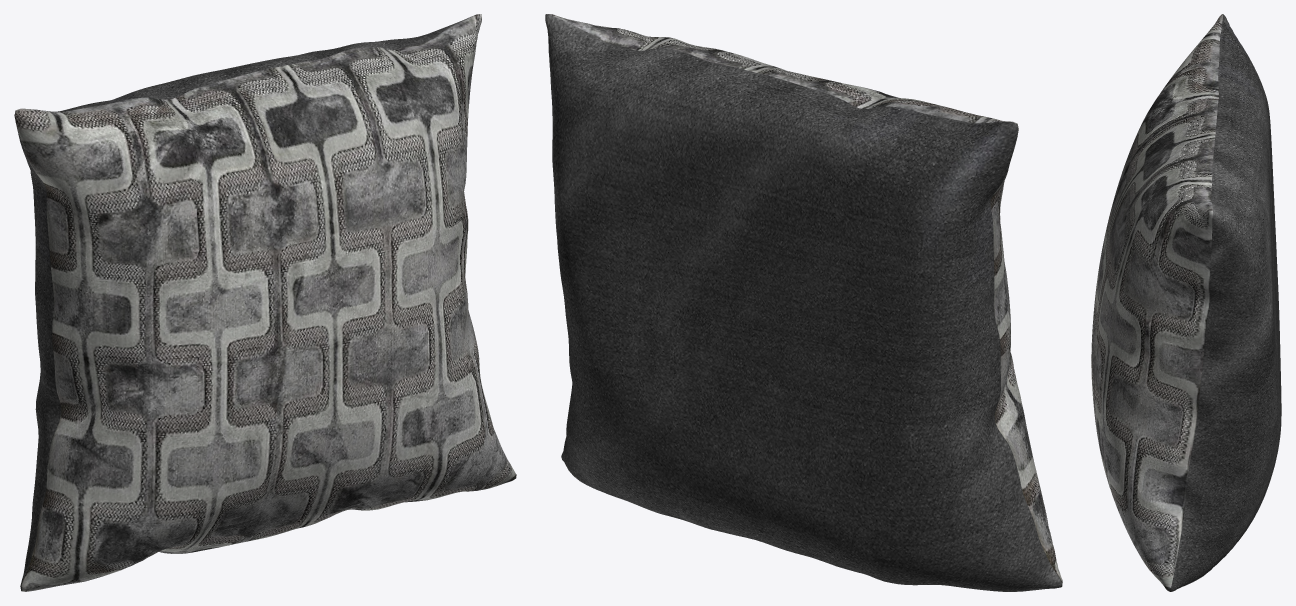
Rendered from Pillow_Square_Base_40x40.glb.
3 renders of one model, left to right at view 1: azimuth 30°, elevation 25°; view 2: azimuth 150°, elevation 25°; view 3: azimuth 270°, elevation 25°, orthographic. The views are drawn at different scales.
Parts seen in each view (by area): view 1: Pillow; view 2: Pillow; view 3: Pillow.
Boxes of the visible parts, box(x1,y1,x2,y2) form: Pillow: box(14, 14, 516, 591); Pillow: box(545, 14, 1062, 591); Pillow: box(1091, 14, 1281, 591).
Bounding box in the file's own units: 0.5647 × 0.5168 × 0.2265.
Materials: 1 (1 with a texture image).
